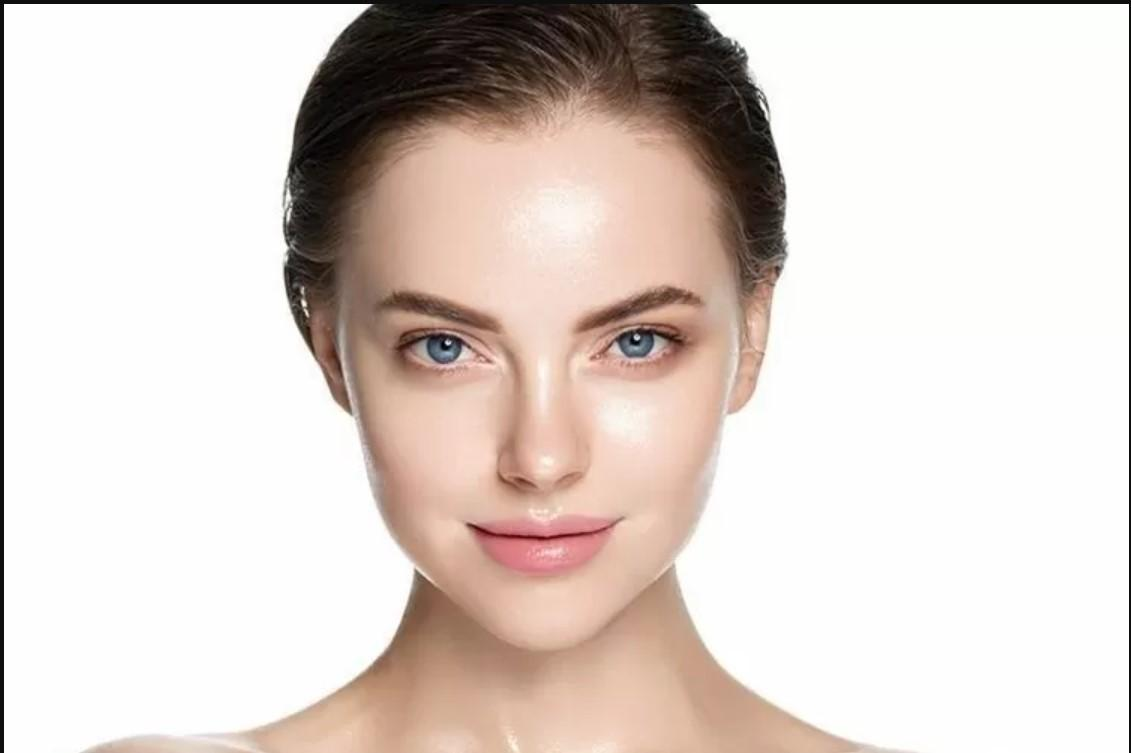Oily-Skin: (424, 166, 668, 288), (358, 398, 496, 502), (606, 396, 714, 510), (504, 338, 582, 466), (484, 582, 604, 642)
